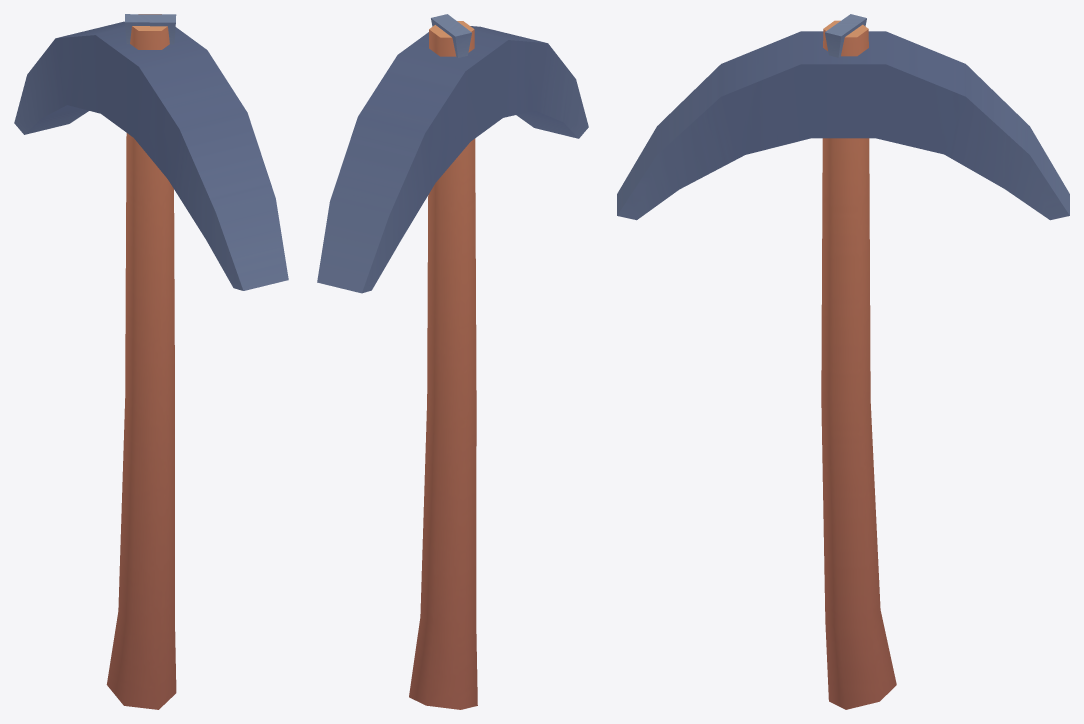
File: pickaxe.glb
3 renders of one model, left to right at view 1: azimuth 30°, elevation 25°; view 2: azimuth 150°, elevation 25°; view 3: azimuth 270°, elevation 25°, orthographic.
Visible parts, largest first — view 1: pickaxe; view 2: pickaxe; view 3: pickaxe.
Part boxes in pixels (x1,y1,x2,y2): pickaxe: [14, 14, 288, 709]; pickaxe: [317, 14, 588, 709]; pickaxe: [617, 14, 1069, 709].
Size of the model in its own units: 0.14 by 1.34 by 0.812.
Materials: 1 (1 with a texture image).
